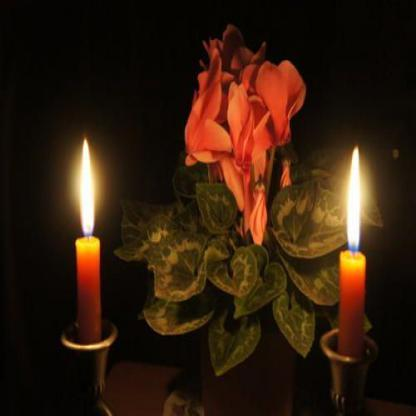fire: (79, 134, 94, 233), (345, 142, 359, 248)
